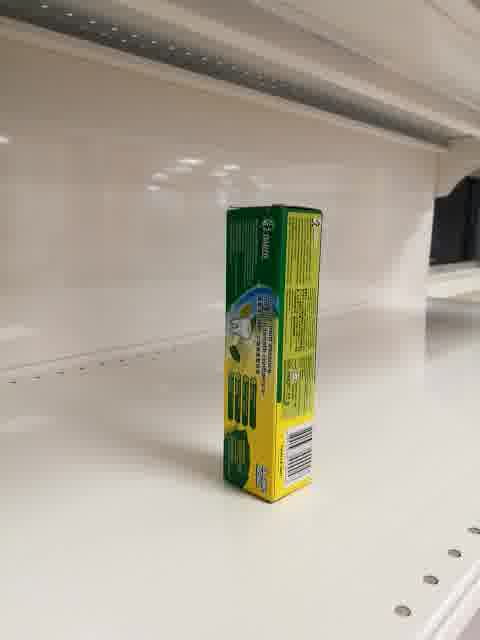toothpaste: (224, 205, 322, 506)
